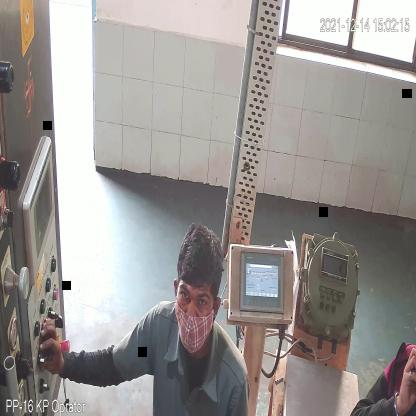no_goggles: (178, 280, 212, 314)
